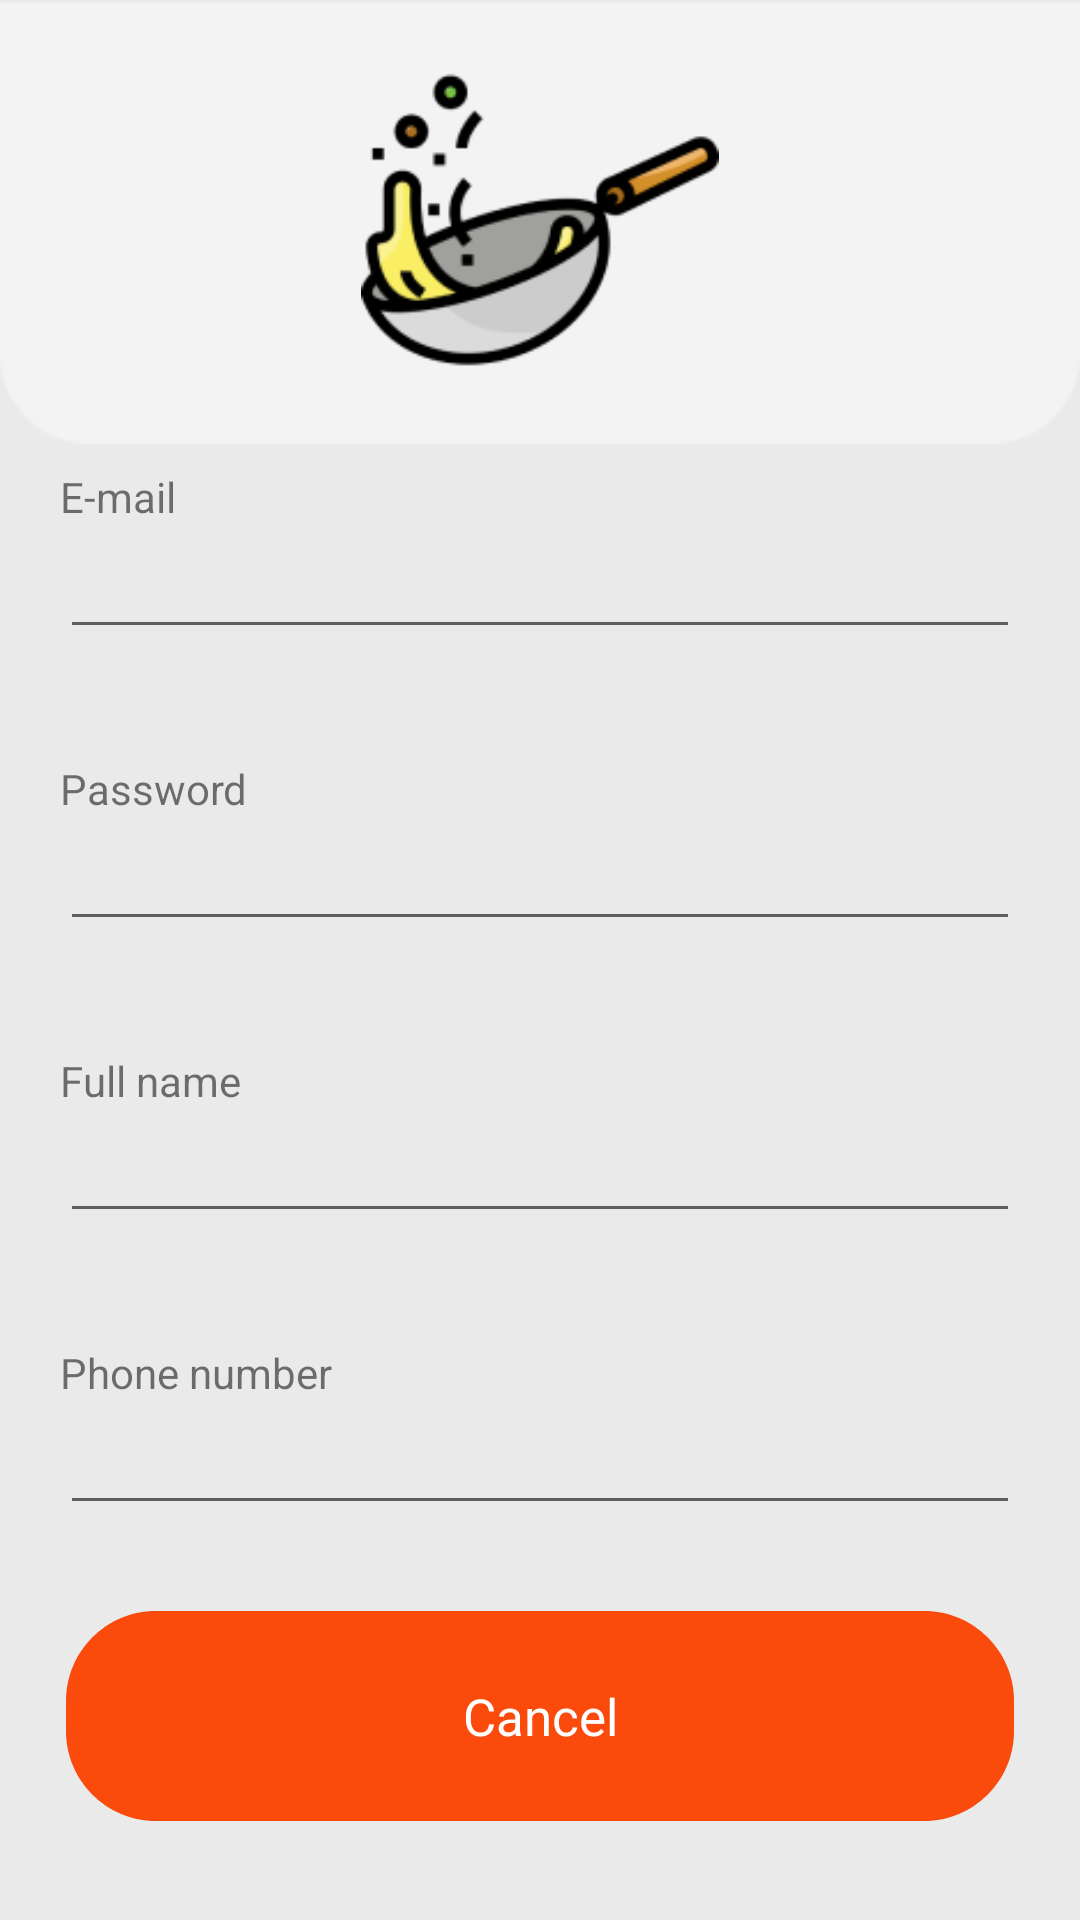

Where icons sit on this 1080px x 1920px app screen, as (x1, y1, x2, y2):
cooking: (361, 74, 719, 366)
